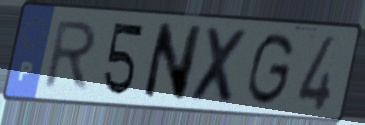4: (297, 33, 336, 113)
5: (101, 19, 146, 98)
G: (244, 30, 297, 108)
N: (139, 21, 206, 104)
R: (39, 19, 100, 93)
X: (187, 23, 253, 108)
